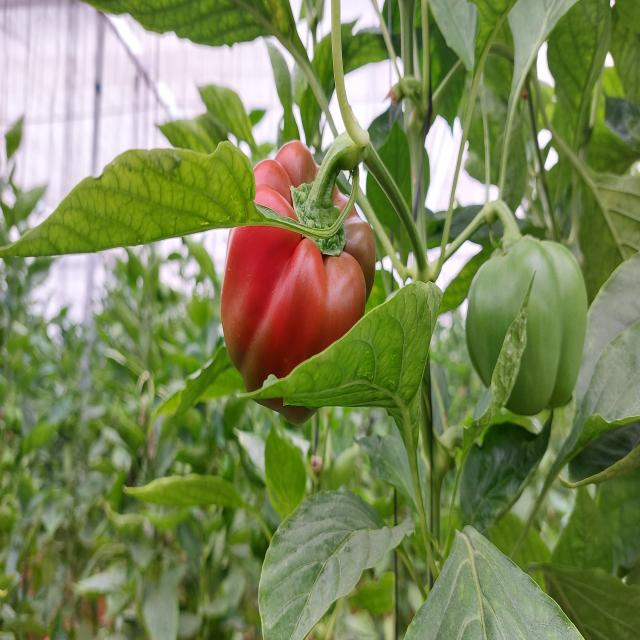Green--Not-ready-to-harvest: (452, 231, 604, 406)
Red-Ready-to-Harvest: (246, 106, 384, 413)
